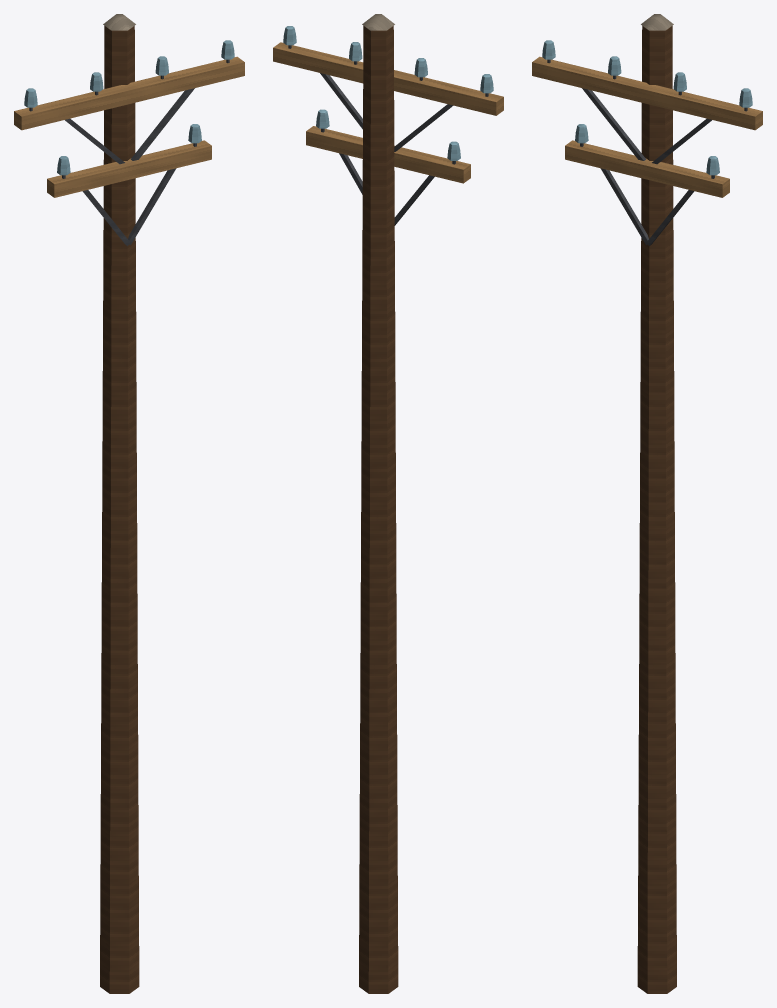
Rendered from poste_telegrafo.glb.
The picture shows the model from 3 angles, left to right: view 1: azimuth 30°, elevation 25°; view 2: azimuth 150°, elevation 25°; view 3: azimuth 330°, elevation 25°; orthographic projection.
Parts seen in each view (by area): view 1: Inteiro; view 2: Inteiro; view 3: Inteiro.
Boxes of the visible parts, <box> form: Inteiro: <box>14,14,244,993</box>; Inteiro: <box>273,14,503,993</box>; Inteiro: <box>532,14,762,993</box>.
Bounding box in the file's own units: 1.7 × 7.06 × 0.31.
Materials: 1 (1 with a texture image).
